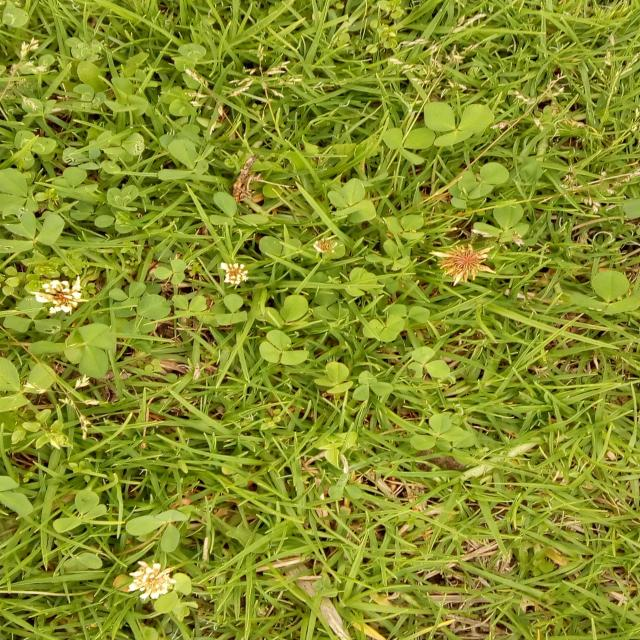Four Leaf Clover: (326, 177, 378, 223)
